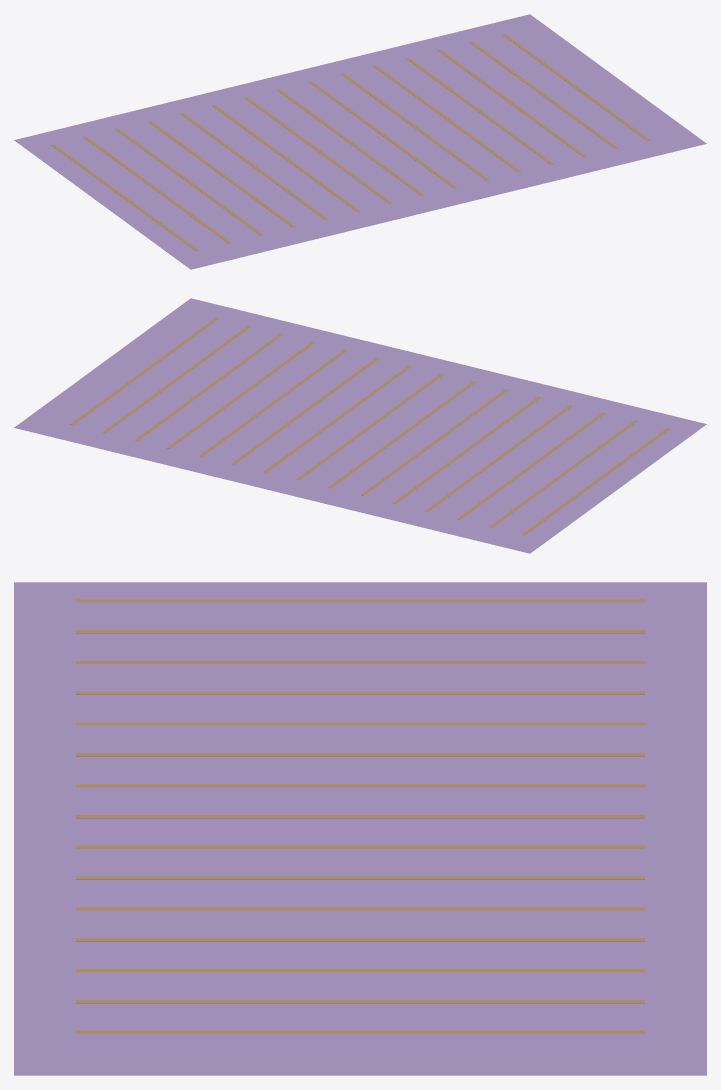
File: 186_L113_PowerDomain_1.glb
3 renders of one model, top to bottom at view 1: azimuth 30°, elevation 25°; view 2: azimuth 150°, elevation 25°; view 3: azimuth 270°, elevation 25°, orthographic. The views are drawn at different scales.
Visible parts, largest first — view 1: part0000__PSMAT__PowerRail_Violet, part0003__PSMAT__Copper_Exposed, part0011__PSMAT__Copper_Exposed, part0002__PSMAT__Copper_Exposed, part0007__PSMAT__Copper_Exposed, part0008__PSMAT__Copper_Exposed, part0015__PSMAT__Copper_Exposed, part0004__PSMAT__Copper_Exposed, part0009__PSMAT__Copper_Exposed, part0010__PSMAT__Copper_Exposed, part0012__PSMAT__Copper_Exposed, part0014__PSMAT__Copper_Exposed (+4 smaller); view 2: part0000__PSMAT__PowerRail_Violet, part0003__PSMAT__Copper_Exposed, part0011__PSMAT__Copper_Exposed, part0002__PSMAT__Copper_Exposed, part0007__PSMAT__Copper_Exposed, part0008__PSMAT__Copper_Exposed, part0015__PSMAT__Copper_Exposed, part0004__PSMAT__Copper_Exposed, part0009__PSMAT__Copper_Exposed, part0010__PSMAT__Copper_Exposed, part0012__PSMAT__Copper_Exposed, part0014__PSMAT__Copper_Exposed (+4 smaller); view 3: part0000__PSMAT__PowerRail_Violet, part0001__PSMAT__Copper_Exposed, part0002__PSMAT__Copper_Exposed, part0004__PSMAT__Copper_Exposed, part0005__PSMAT__Copper_Exposed, part0006__PSMAT__Copper_Exposed, part0007__PSMAT__Copper_Exposed, part0008__PSMAT__Copper_Exposed, part0009__PSMAT__Copper_Exposed, part0010__PSMAT__Copper_Exposed, part0011__PSMAT__Copper_Exposed, part0012__PSMAT__Copper_Exposed (+4 smaller).
Part boxes in pixels (x1=…): part0000__PSMAT__PowerRail_Violet: x1=14, y1=14, x2=706, y2=269; part0003__PSMAT__Copper_Exposed: x1=115, y1=128, x2=263, y2=235; part0011__PSMAT__Copper_Exposed: x1=373, y1=65, x2=521, y2=172; part0002__PSMAT__Copper_Exposed: x1=83, y1=136, x2=231, y2=243; part0007__PSMAT__Copper_Exposed: x1=244, y1=97, x2=392, y2=204; part0008__PSMAT__Copper_Exposed: x1=277, y1=89, x2=424, y2=196; part0015__PSMAT__Copper_Exposed: x1=502, y1=34, x2=650, y2=141; part0004__PSMAT__Copper_Exposed: x1=148, y1=120, x2=295, y2=227; part0009__PSMAT__Copper_Exposed: x1=309, y1=81, x2=456, y2=188; part0010__PSMAT__Copper_Exposed: x1=341, y1=73, x2=489, y2=180; part0012__PSMAT__Copper_Exposed: x1=406, y1=57, x2=553, y2=164; part0014__PSMAT__Copper_Exposed: x1=470, y1=42, x2=617, y2=148; part0000__PSMAT__PowerRail_Violet: x1=14, y1=298, x2=706, y2=553; part0003__PSMAT__Copper_Exposed: x1=457, y1=412, x2=605, y2=519; part0011__PSMAT__Copper_Exposed: x1=199, y1=349, x2=347, y2=456; part0002__PSMAT__Copper_Exposed: x1=489, y1=420, x2=637, y2=527; part0007__PSMAT__Copper_Exposed: x1=328, y1=381, x2=476, y2=488; part0008__PSMAT__Copper_Exposed: x1=296, y1=373, x2=443, y2=480; part0015__PSMAT__Copper_Exposed: x1=70, y1=318, x2=218, y2=425; part0004__PSMAT__Copper_Exposed: x1=425, y1=404, x2=572, y2=511; part0009__PSMAT__Copper_Exposed: x1=264, y1=365, x2=411, y2=472; part0010__PSMAT__Copper_Exposed: x1=231, y1=357, x2=379, y2=464; part0012__PSMAT__Copper_Exposed: x1=167, y1=341, x2=314, y2=448; part0014__PSMAT__Copper_Exposed: x1=103, y1=326, x2=250, y2=432; part0000__PSMAT__PowerRail_Violet: x1=14, y1=582, x2=706, y2=1075; part0001__PSMAT__Copper_Exposed: x1=76, y1=599, x2=644, y2=602; part0002__PSMAT__Copper_Exposed: x1=76, y1=630, x2=644, y2=633; part0004__PSMAT__Copper_Exposed: x1=76, y1=691, x2=644, y2=694; part0005__PSMAT__Copper_Exposed: x1=76, y1=722, x2=644, y2=725; part0006__PSMAT__Copper_Exposed: x1=76, y1=753, x2=644, y2=756; part0007__PSMAT__Copper_Exposed: x1=76, y1=784, x2=644, y2=787; part0008__PSMAT__Copper_Exposed: x1=76, y1=815, x2=644, y2=818; part0009__PSMAT__Copper_Exposed: x1=76, y1=845, x2=644, y2=848; part0010__PSMAT__Copper_Exposed: x1=76, y1=876, x2=644, y2=879; part0011__PSMAT__Copper_Exposed: x1=76, y1=907, x2=644, y2=910; part0012__PSMAT__Copper_Exposed: x1=76, y1=938, x2=644, y2=941.
Size of the model in its own units: 0.16 by 0.000498 by 0.095.
